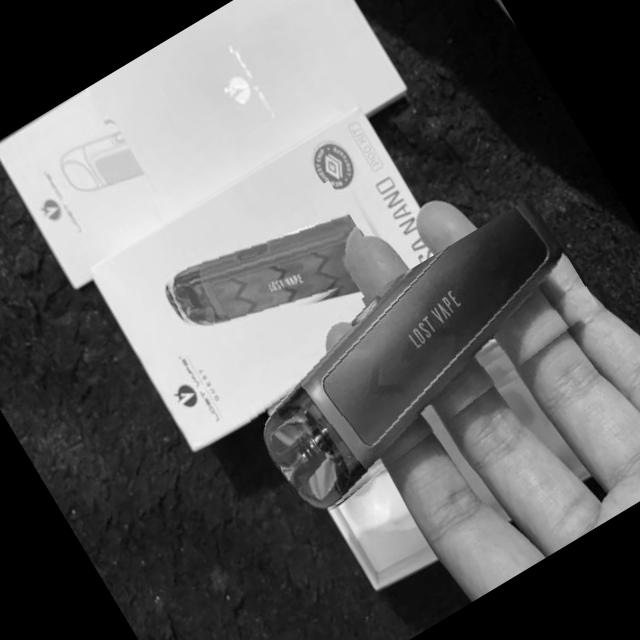Hazard: (224, 195, 618, 524), (156, 179, 384, 374)
